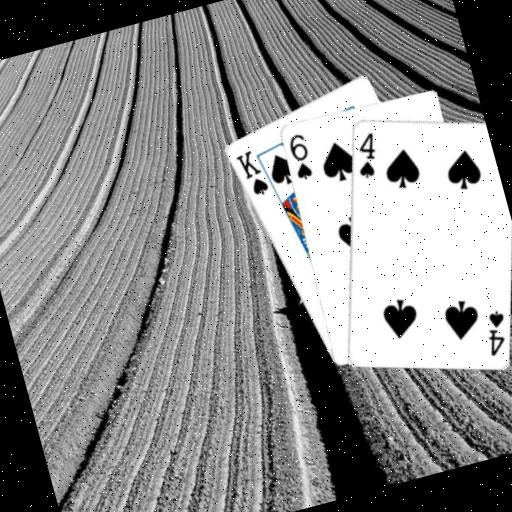4S: (346, 128, 384, 181), (476, 305, 512, 358)
6S: (282, 129, 316, 183)
KS: (230, 144, 271, 201)
